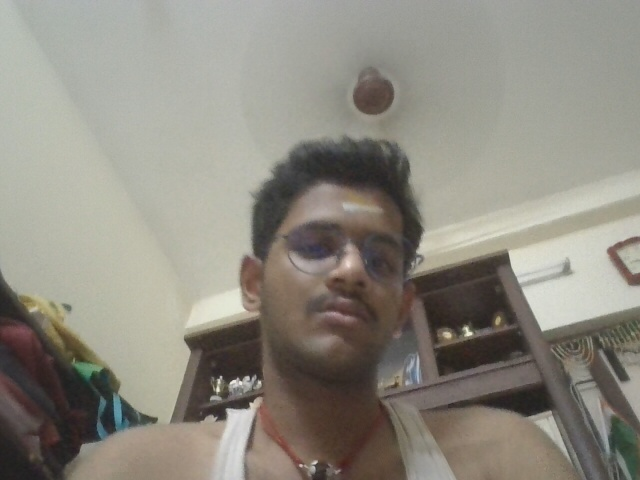real: (254, 173, 437, 356)
